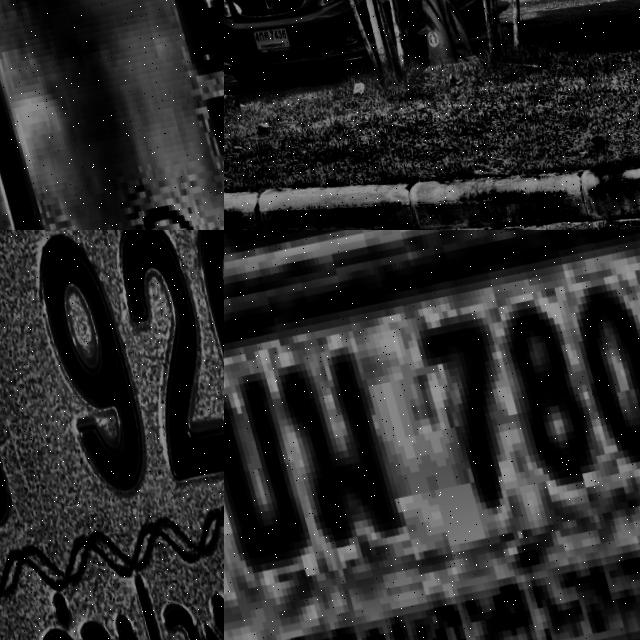license-plate: (224, 230, 640, 640), (0, 230, 224, 640), (0, 0, 224, 230), (242, 20, 286, 59)
